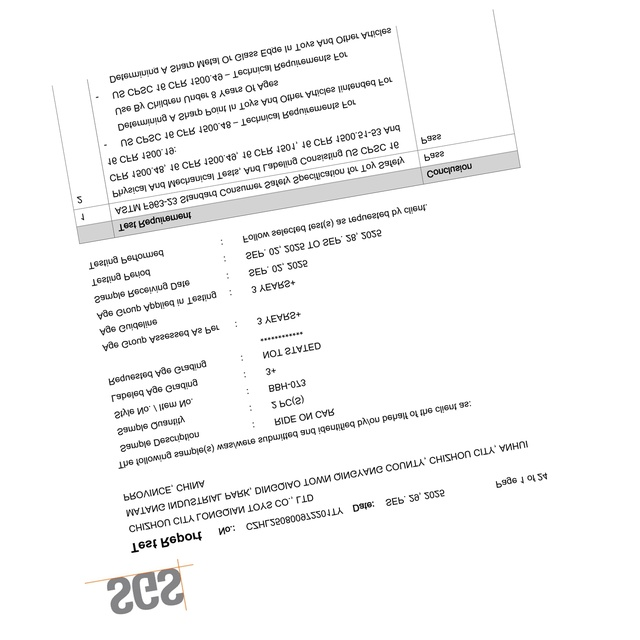sgs: (107, 567, 185, 613)
